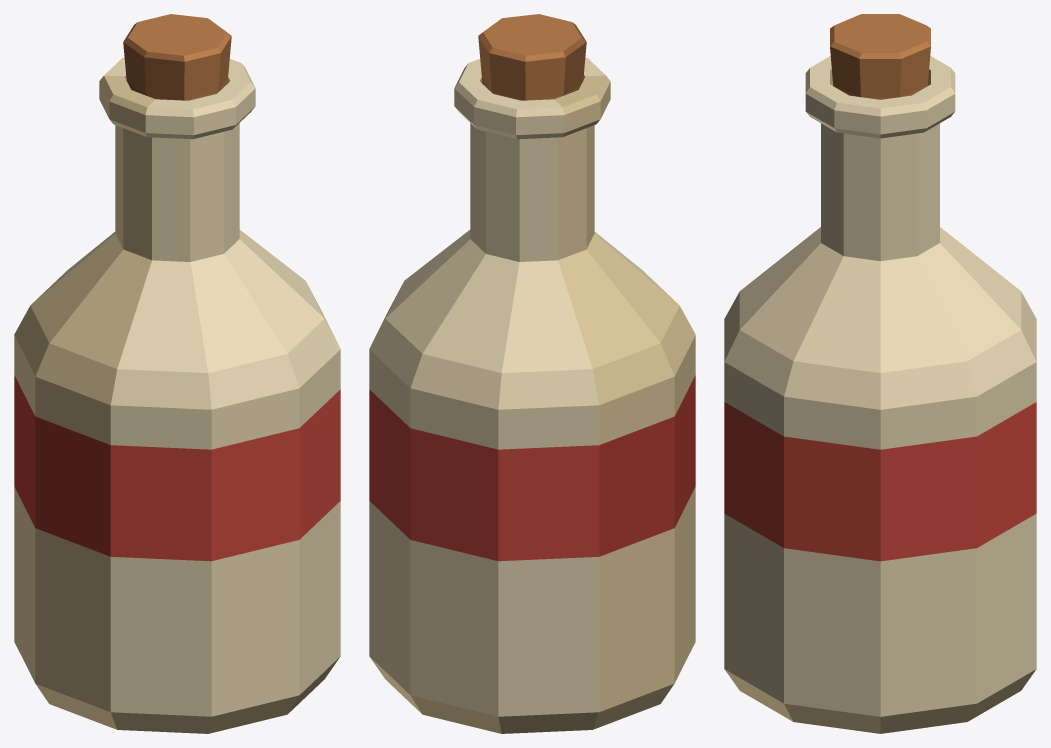
The model's file is FMS_Workshop_PRD_15.fbx.
The picture shows the model from 3 angles, left to right: view 1: azimuth 30°, elevation 25°; view 2: azimuth 150°, elevation 25°; view 3: azimuth 270°, elevation 25°; orthographic projection.
Parts seen in each view (by area): view 1: FMS_Workshop_PRD_15_Body; view 2: FMS_Workshop_PRD_15_Body; view 3: FMS_Workshop_PRD_15_Body.
Boxes of the visible parts, bbox=[...] form: FMS_Workshop_PRD_15_Body: bbox=[14, 14, 340, 733]; FMS_Workshop_PRD_15_Body: bbox=[369, 14, 695, 733]; FMS_Workshop_PRD_15_Body: bbox=[724, 14, 1036, 733].
Size of the model in its own units: 0.1493 by 0.32 by 0.142.
Materials: 1 (1 with a texture image).
